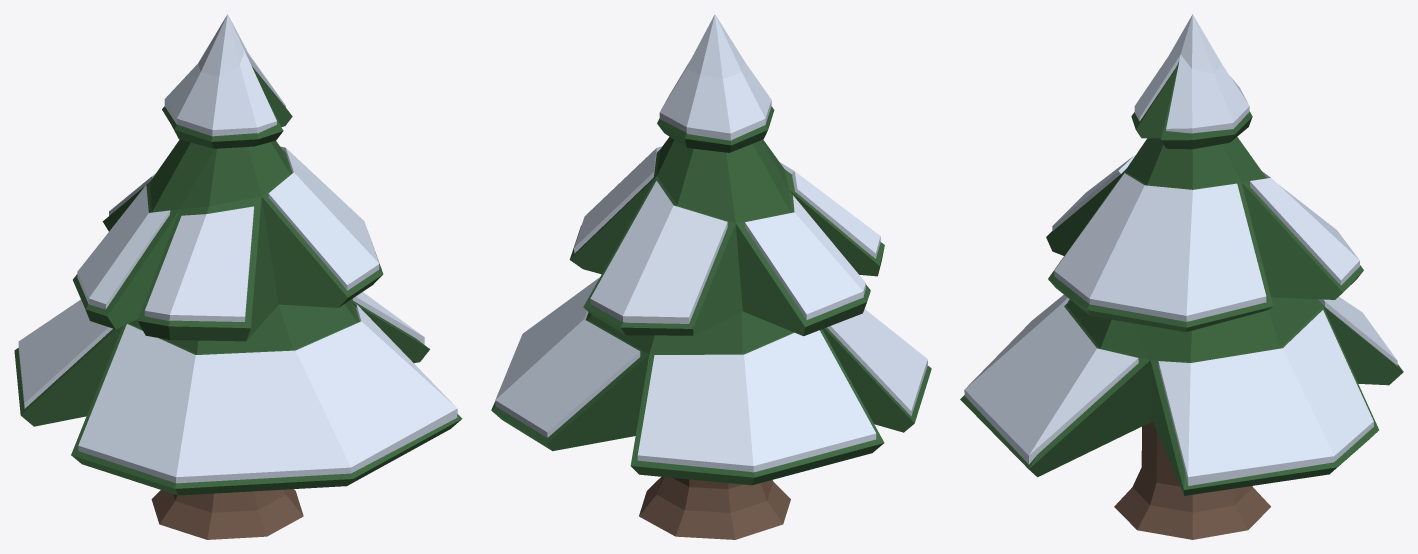
Rendered from Tree3.fbx.
The picture shows the model from 3 angles, left to right: view 1: azimuth 30°, elevation 25°; view 2: azimuth 150°, elevation 25°; view 3: azimuth 270°, elevation 25°; orthographic projection.
Visible parts, largest first — view 1: Cylinder.004; view 2: Cylinder.004; view 3: Cylinder.004.
Part boxes in pixels (<box>): Cylinder.004: <box>14,14,462,539</box>; Cylinder.004: <box>491,14,931,539</box>; Cylinder.004: <box>960,14,1403,539</box>.
Bounding box in the file's own units: 315 × 385 × 314.
